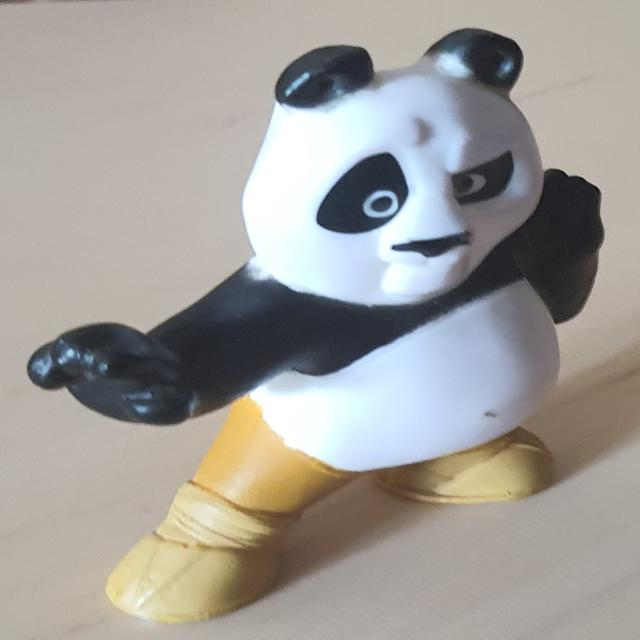Panda: (27, 27, 606, 623)
